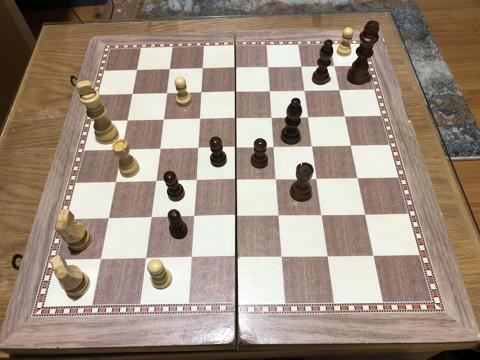xcorner: (300, 85, 313, 98), (323, 250, 336, 263), (165, 64, 178, 76), (132, 64, 145, 76), (231, 86, 243, 99), (162, 87, 174, 100), (231, 113, 244, 125), (122, 114, 135, 126), (346, 140, 359, 152), (231, 142, 244, 154), (117, 143, 129, 156), (353, 172, 365, 185), (151, 175, 163, 188), (318, 209, 330, 222), (103, 212, 115, 225), (186, 252, 198, 265), (140, 253, 153, 265), (330, 61, 342, 73), (297, 62, 309, 74), (264, 62, 276, 74), (231, 63, 243, 75), (198, 63, 210, 75), (335, 85, 347, 97), (266, 86, 278, 98), (197, 87, 209, 99), (128, 88, 140, 100), (340, 111, 352, 123), (304, 112, 316, 124), (268, 112, 280, 124), (195, 113, 207, 125), (159, 114, 171, 126), (308, 141, 320, 153), (270, 141, 282, 153), (193, 142, 205, 154), (155, 143, 167, 155), (313, 173, 325, 185), (272, 174, 284, 186), (232, 174, 244, 186), (191, 175, 203, 187), (110, 176, 122, 188), (361, 209, 373, 221), (275, 210, 287, 222), (232, 211, 244, 223), (189, 211, 201, 223), (146, 212, 158, 224), (369, 250, 381, 262), (278, 251, 290, 263), (232, 252, 244, 264), (95, 254, 107, 266)
